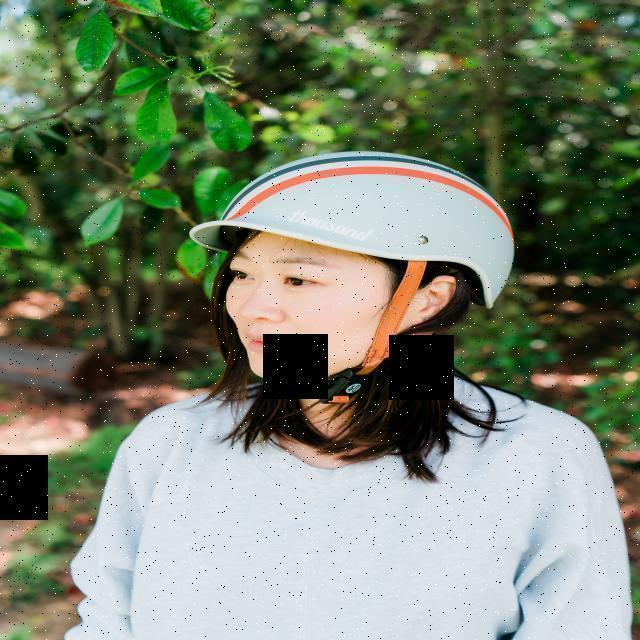helmet: (188, 148, 514, 404)
